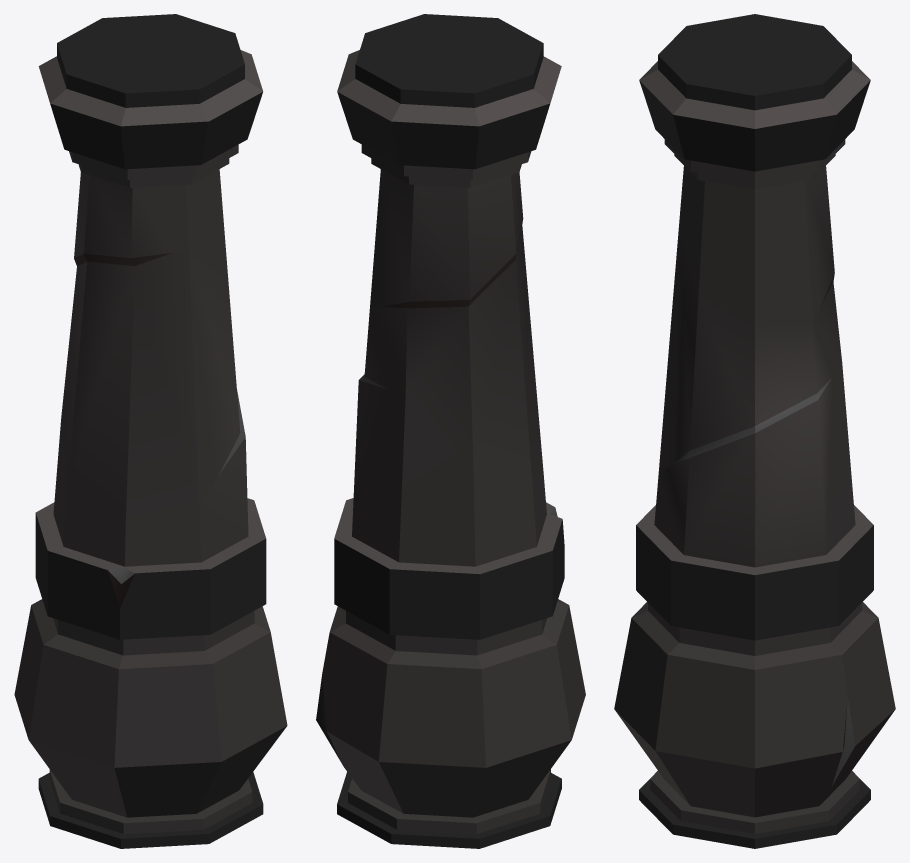
Rendered from Pillar_Cylinder_04.glb.
The picture shows the model from 3 angles, left to right: view 1: azimuth 30°, elevation 25°; view 2: azimuth 150°, elevation 25°; view 3: azimuth 270°, elevation 25°; orthographic projection.
Visible parts, largest first — view 1: Pillar_Cylinder_04; view 2: Pillar_Cylinder_04; view 3: Pillar_Cylinder_04.
Boxes of the visible parts, <box> form: Pillar_Cylinder_04: <box>14,14,287,848</box>; Pillar_Cylinder_04: <box>316,14,585,848</box>; Pillar_Cylinder_04: <box>614,14,895,848</box>.
Size of what is drawn, in the model's own units: 0.8399 by 2.45 by 0.8399.
1 material, 1 textured.
